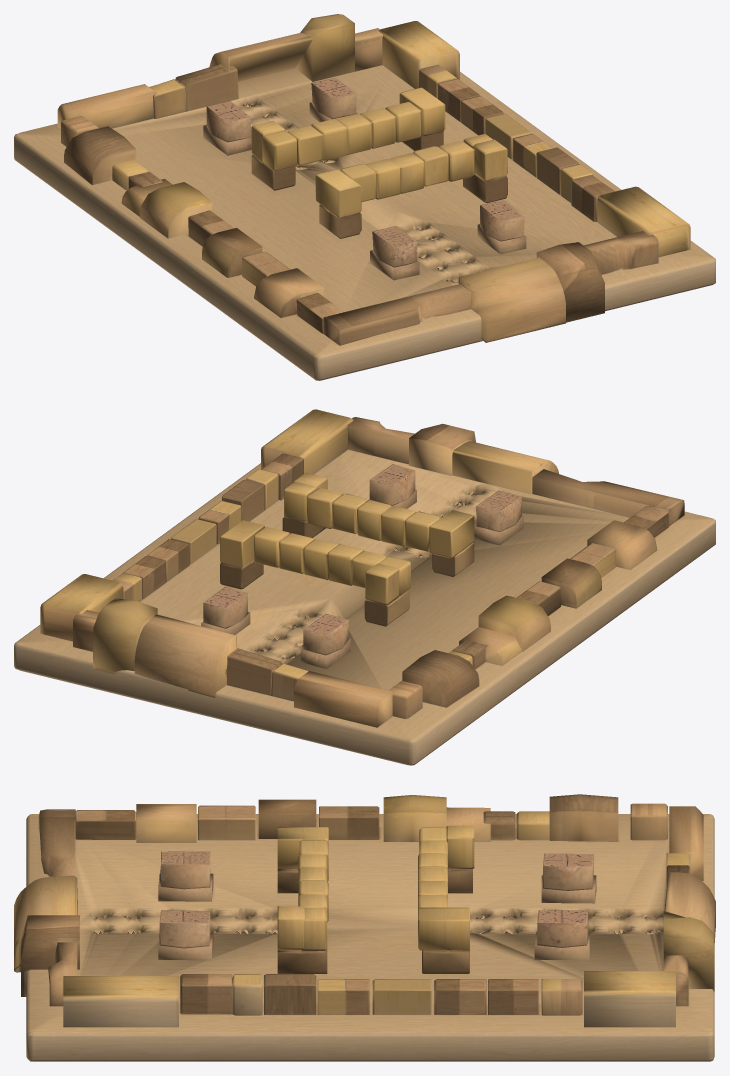
The model's file is wooden+maze+puzzle+3d+model.fbx.
3 views of the same model, one above another, from view 1: azimuth 30°, elevation 25°; view 2: azimuth 150°, elevation 25°; view 3: azimuth 270°, elevation 25° (orthographic). The views are drawn at different scales.
Parts seen in each view (by area): view 1: meshes[0]; view 2: meshes[0]; view 3: meshes[0].
Part boxes in pixels (bbox=[...]): meshes[0]: bbox=[14, 14, 715, 380]; meshes[0]: bbox=[14, 409, 715, 765]; meshes[0]: bbox=[14, 794, 715, 1061].
Bounding box in the file's own units: 0.7441 × 0.1465 × 0.998.
1 material, 1 textured.
